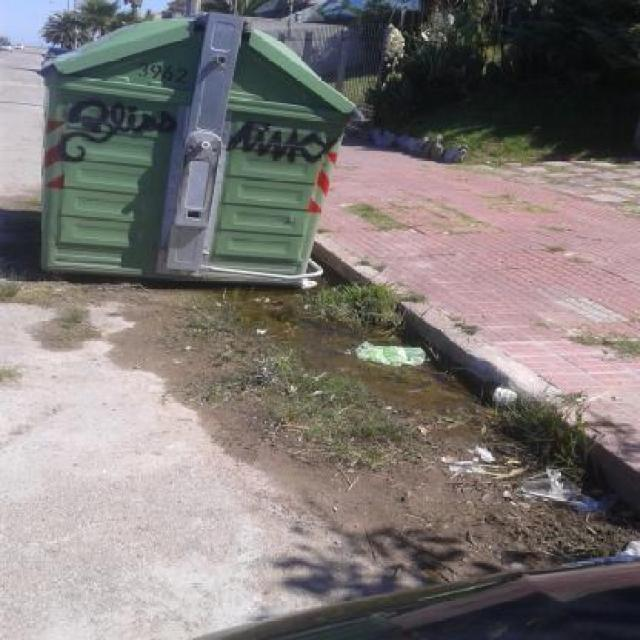garbage: (454, 442, 604, 522), (474, 383, 560, 418), (360, 340, 428, 378)
